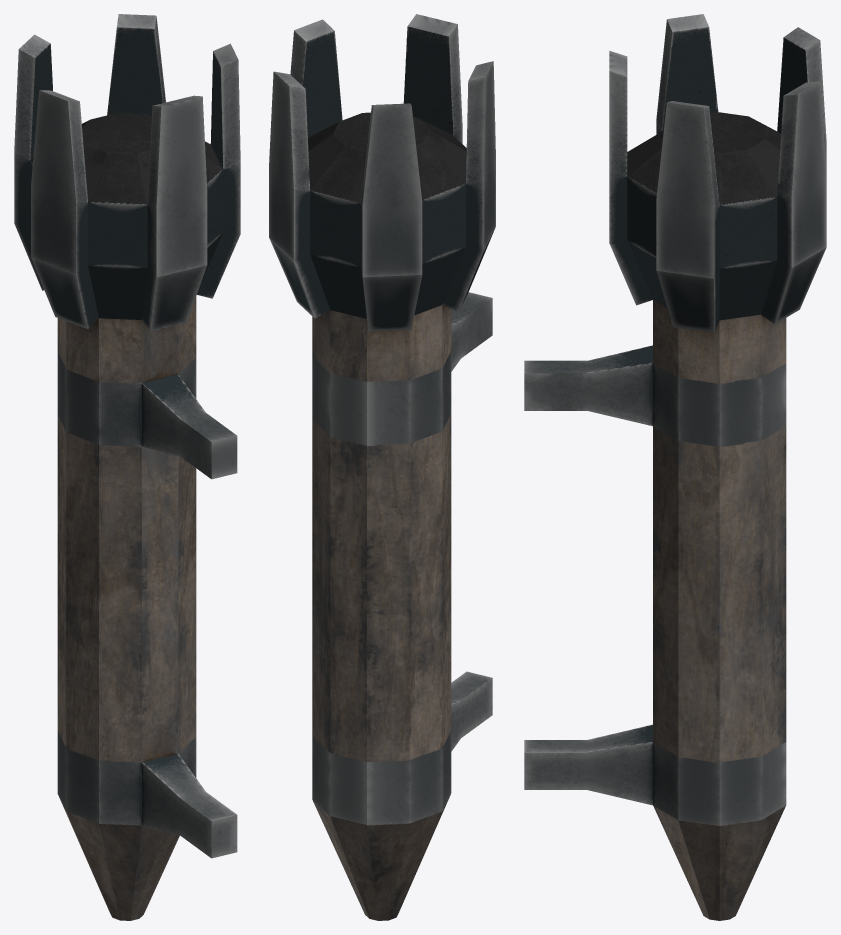
Rendered from TorchTX.fbx.
The picture shows the model from 3 angles, left to right: view 1: azimuth 30°, elevation 25°; view 2: azimuth 150°, elevation 25°; view 3: azimuth 270°, elevation 25°; orthographic projection.
Visible parts, largest first — view 1: Torch_Test_1; view 2: Torch_Test_1; view 3: Torch_Test_1.
Boxes of the visible parts, x1,y1,x2,y2 form: Torch_Test_1: (14,14,240,920); Torch_Test_1: (269,14,495,920); Torch_Test_1: (524,14,826,920).
Bounding box in the file's own units: 0.334 × 1.38 × 0.443.
